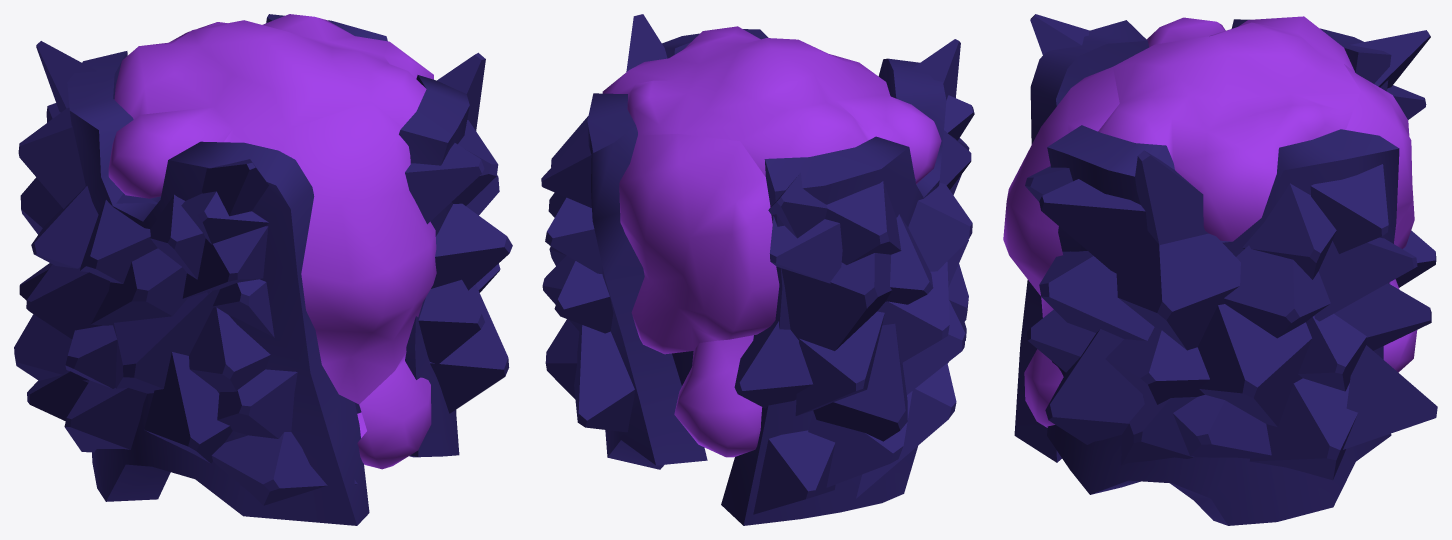
Rendered from obj_resource_crystal.fbx.
3 renders of one model, left to right at view 1: azimuth 30°, elevation 25°; view 2: azimuth 150°, elevation 25°; view 3: azimuth 270°, elevation 25°, orthographic. The views are drawn at different scales.
Visible parts, largest first — view 1: lod0_obj_resource_crystal.001; view 2: lod0_obj_resource_crystal.001; view 3: lod0_obj_resource_crystal.001.
Boxes of the visible parts, x1,y1,x2,y2 form: lod0_obj_resource_crystal.001: (14, 14, 512, 525); lod0_obj_resource_crystal.001: (541, 14, 974, 525); lod0_obj_resource_crystal.001: (1003, 14, 1437, 525).
Bounding box in the file's own units: 3.45 × 3.4 × 3.07.
